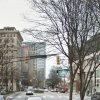Tree: (41, 3, 100, 100)
